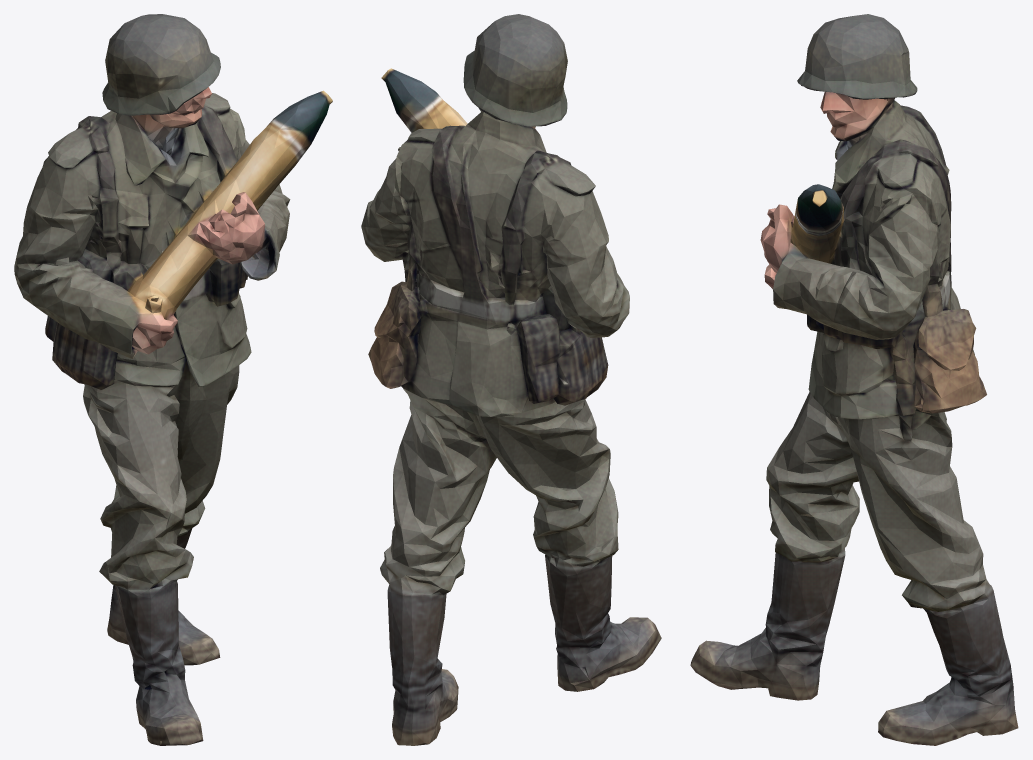
The model's file is crew_loader.obj.
The picture shows the model from 3 angles, left to right: view 1: azimuth 30°, elevation 25°; view 2: azimuth 150°, elevation 25°; view 3: azimuth 270°, elevation 25°; orthographic projection. The views are drawn at different scales.
Parts seen in each view (by area): view 1: crew_loader; view 2: crew_loader; view 3: crew_loader.
Part boxes in pixels (left/top/right/bottom): crew_loader: left=14, top=14, right=332, bottom=745; crew_loader: left=361, top=14, right=661, bottom=745; crew_loader: left=690, top=14, right=1018, bottom=745.
Bounding box in the file's own units: 0.7716 × 1.8 × 0.7774.
Materials: 1 (1 with a texture image).
